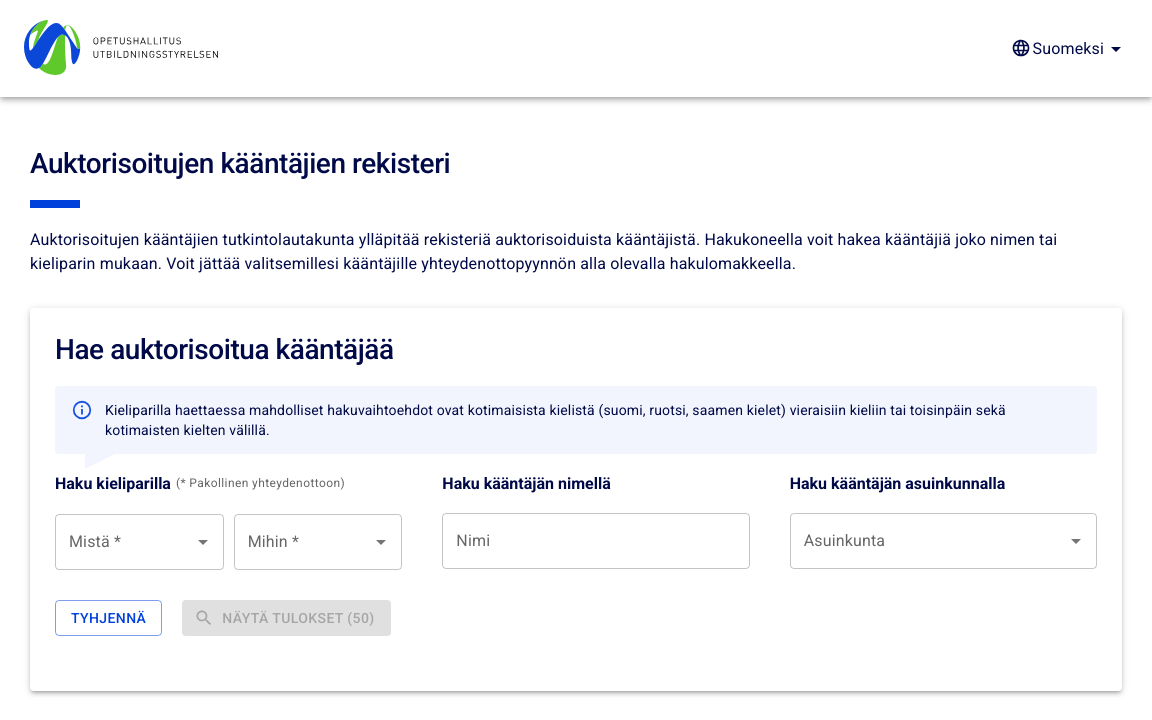
Test: PublicTranslatorFilters › it should provide only compulsory languages as fromLang options if the toLang field has a different value
Click the element with test id "public-translator-filters__to-language-select". click: (319, 542)
box: left=234, top=514, right=403, bottom=570
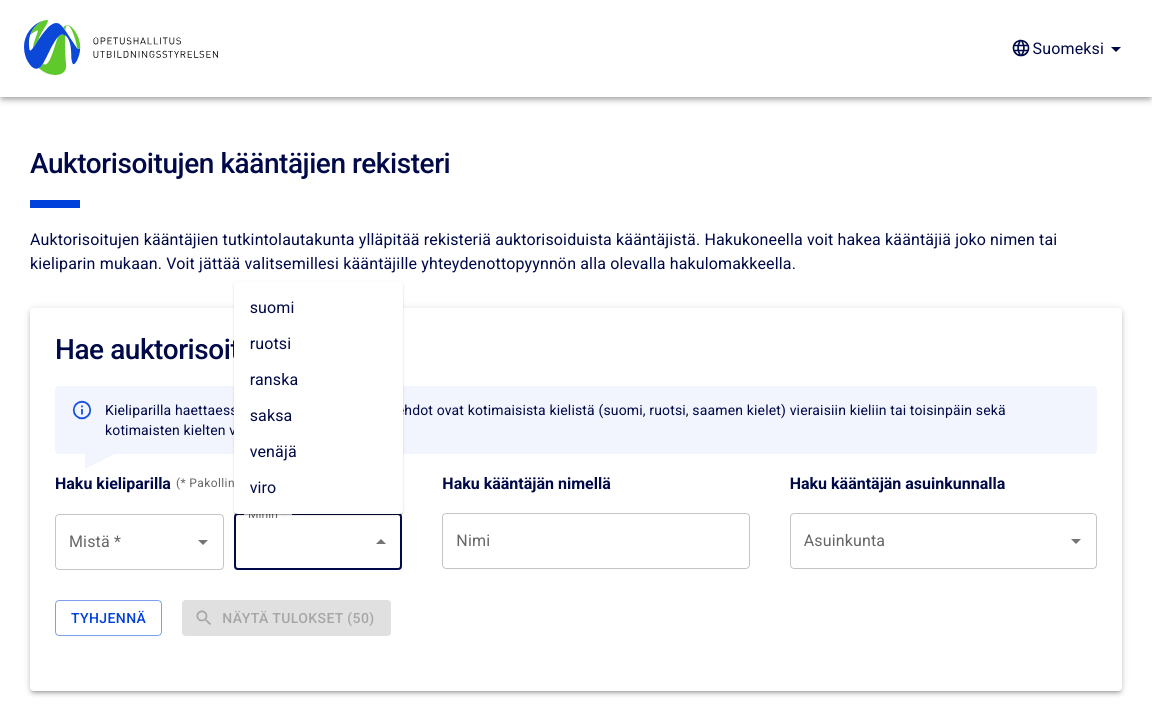
Click the option "viro". click: (264, 488)
box: left=250, top=478, right=277, bottom=497
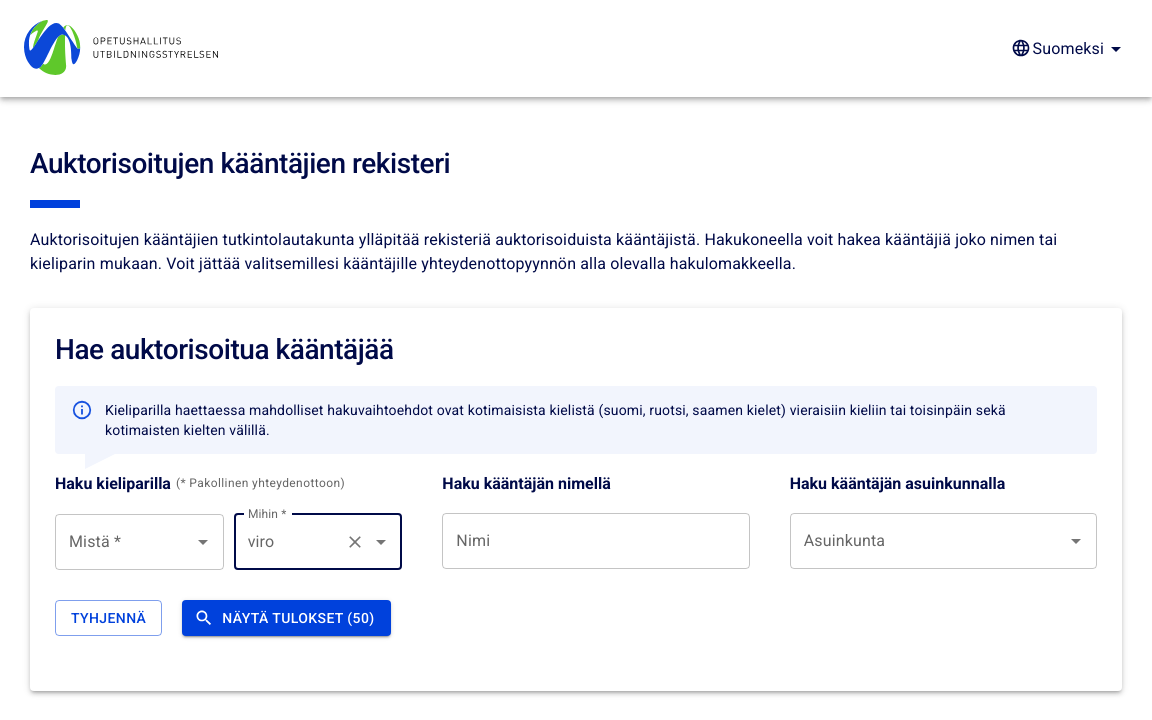
Click the element with test id "public-translator-filters__from-language-select". click: (140, 542)
box: left=55, top=514, right=224, bottom=570
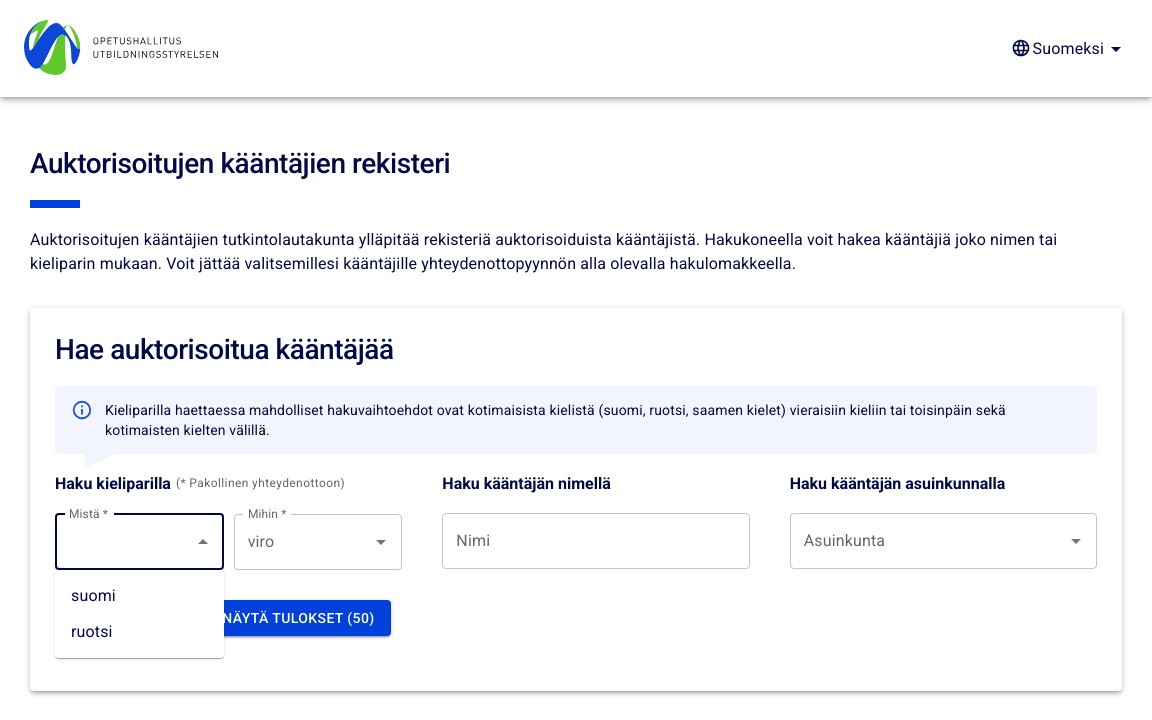
Expected: the number of options is 2, left=71, top=586, right=116, bottom=605; left=71, top=622, right=113, bottom=641
Expected: the option "suomi" is shown, left=71, top=586, right=116, bottom=605
Expected: the option "ruotsi" is shown, left=71, top=622, right=113, bottom=641
